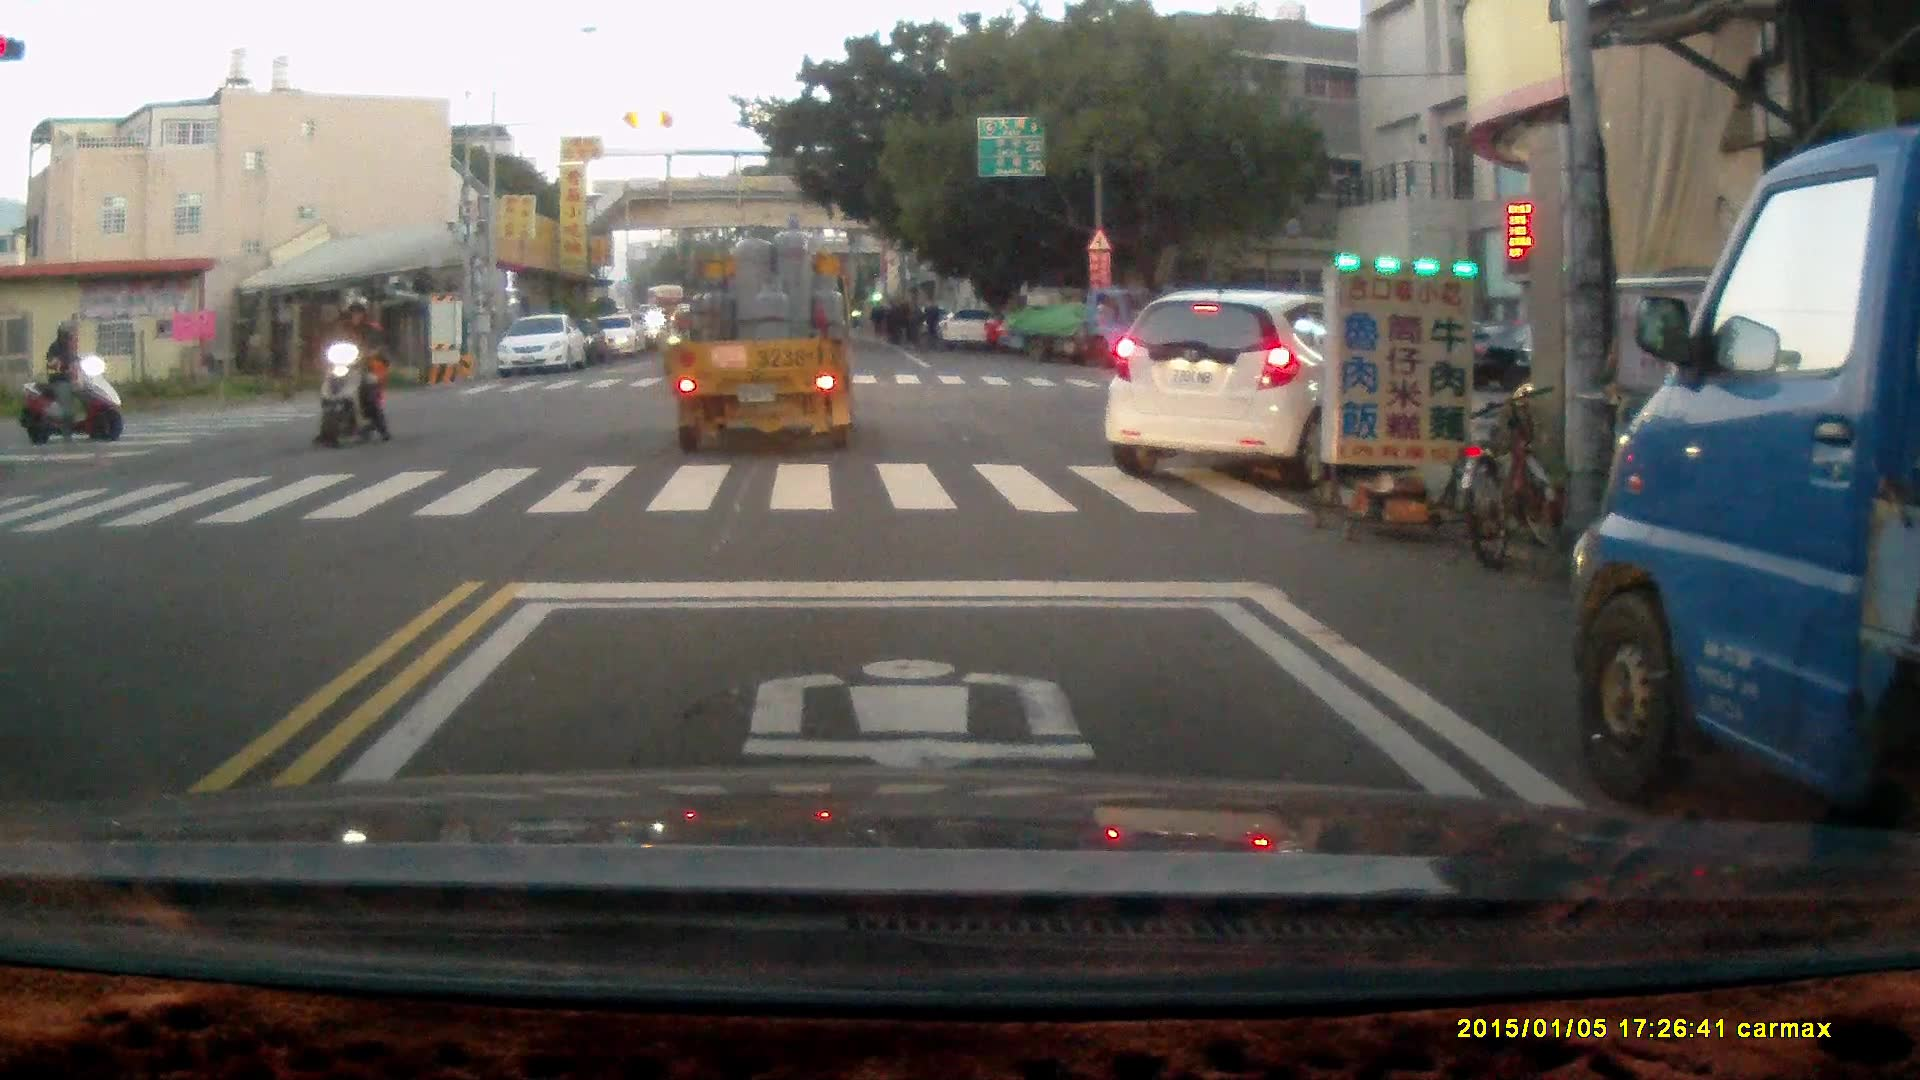rider: (11, 318, 121, 441), (311, 293, 390, 450)
vehicle: (1580, 132, 1920, 865), (1108, 290, 1404, 469), (666, 235, 858, 453), (1002, 284, 1170, 367), (500, 312, 588, 378), (592, 311, 642, 360)
